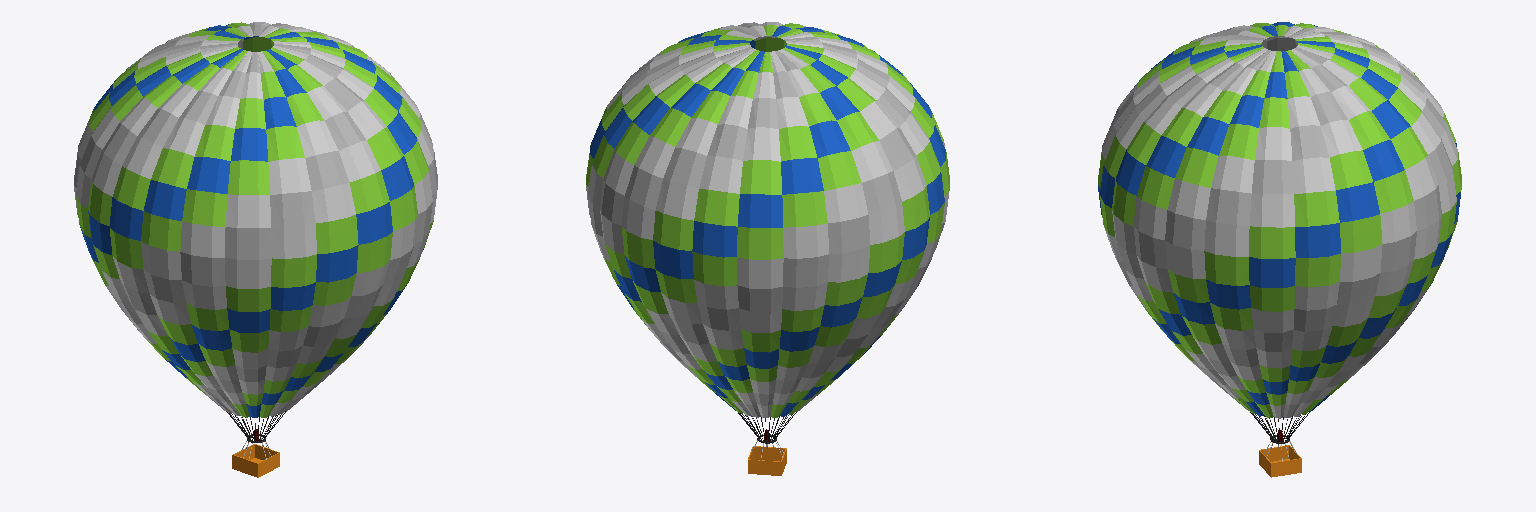
Rendered from balloon-bak.obj.
The picture shows the model from 3 angles: view 1: azimuth 30°, elevation 25°; view 2: azimuth 150°, elevation 25°; view 3: azimuth 270°, elevation 25°; orthographic projection.
Parts seen in each view (by area): view 1: red, black, yellow, offwhit1, white2, white, Box; view 2: white2, offwhit1, white, black, yellow, red, Box; view 3: white, yellow, red, white2, black, offwhit1, Box.
Part boxes in pixels (x1,y1,x2,y2): red: (89, 28, 428, 417); black: (80, 24, 423, 417); yellow: (78, 26, 433, 416); offwhit1: (76, 22, 433, 417); white2: (74, 22, 436, 415); white: (74, 23, 437, 414); Box: (232, 444, 279, 477); white2: (592, 25, 935, 417); offwhit1: (602, 27, 940, 417); white: (588, 22, 944, 417); black: (590, 26, 945, 416); yellow: (586, 22, 948, 415); red: (586, 23, 949, 414); Box: (748, 446, 786, 475); white: (1113, 27, 1452, 417); yellow: (1104, 25, 1447, 418); red: (1100, 23, 1457, 417); white2: (1102, 26, 1457, 416); black: (1098, 22, 1460, 415); offwhit1: (1098, 23, 1461, 414); Box: (1259, 445, 1301, 477).
Size of the model in its own units: 263 by 337 by 263.